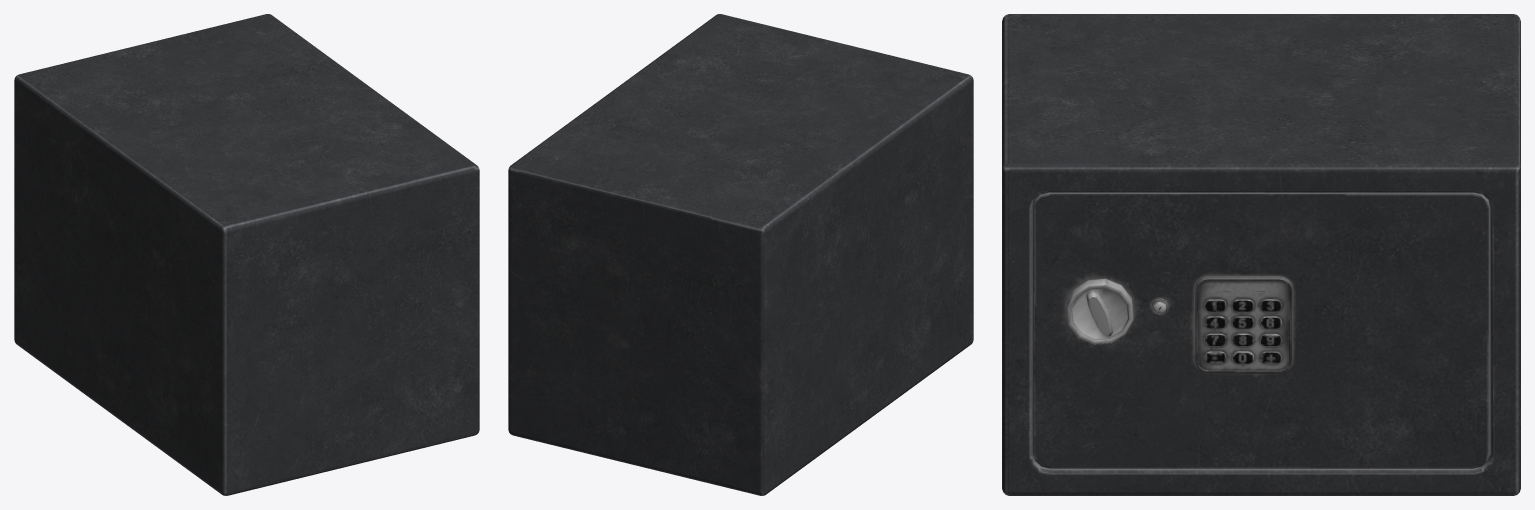
Rendered from safetybox.glb.
3 views of the same model, side by side, from view 1: azimuth 30°, elevation 25°; view 2: azimuth 150°, elevation 25°; view 3: azimuth 270°, elevation 25° (orthographic). The views are drawn at different scales.
Visible parts, largest first — view 1: Cube_Safe_0.001; view 2: Cube_Safe_0.001; view 3: Cube.001_Safe_0.001, Cube_Safe_0.001.
Part boxes in pixels (x1,y1,x2,y2): Cube_Safe_0.001: (14,14,479,495); Cube_Safe_0.001: (508,14,973,495); Cube.001_Safe_0.001: (1032,192,1490,468); Cube_Safe_0.001: (1002,14,1520,495).
Bounding box in the file's own units: 0.4705 × 0.4524 × 0.6407.
1 material, 1 textured.
